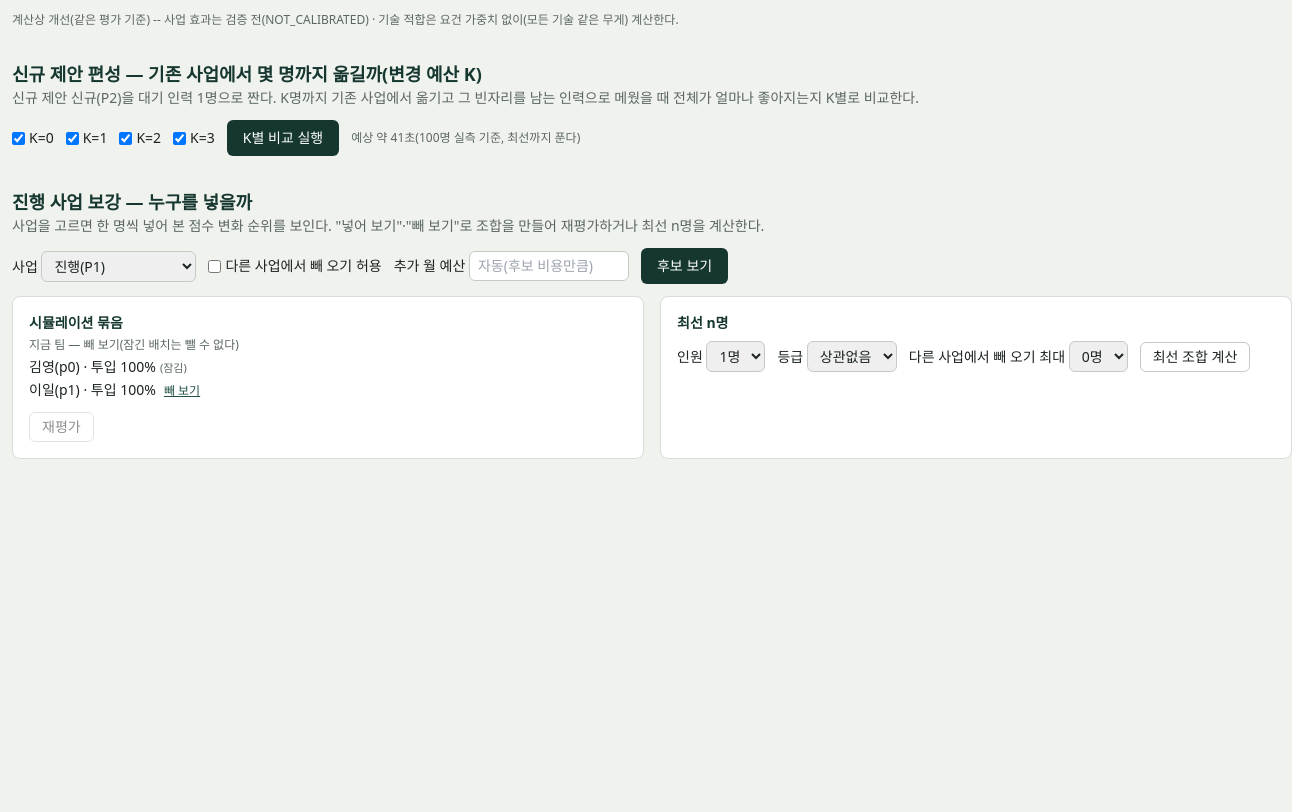
Test: OperatingTab › 보강: 후보를 넣어 보고 잠긴 사람은 뺄 수 없으며, 재평가에 등급 정원·예산을 함께 보낸다
Click the button "후보 보기" at (685, 266), box [641,248,728,284]
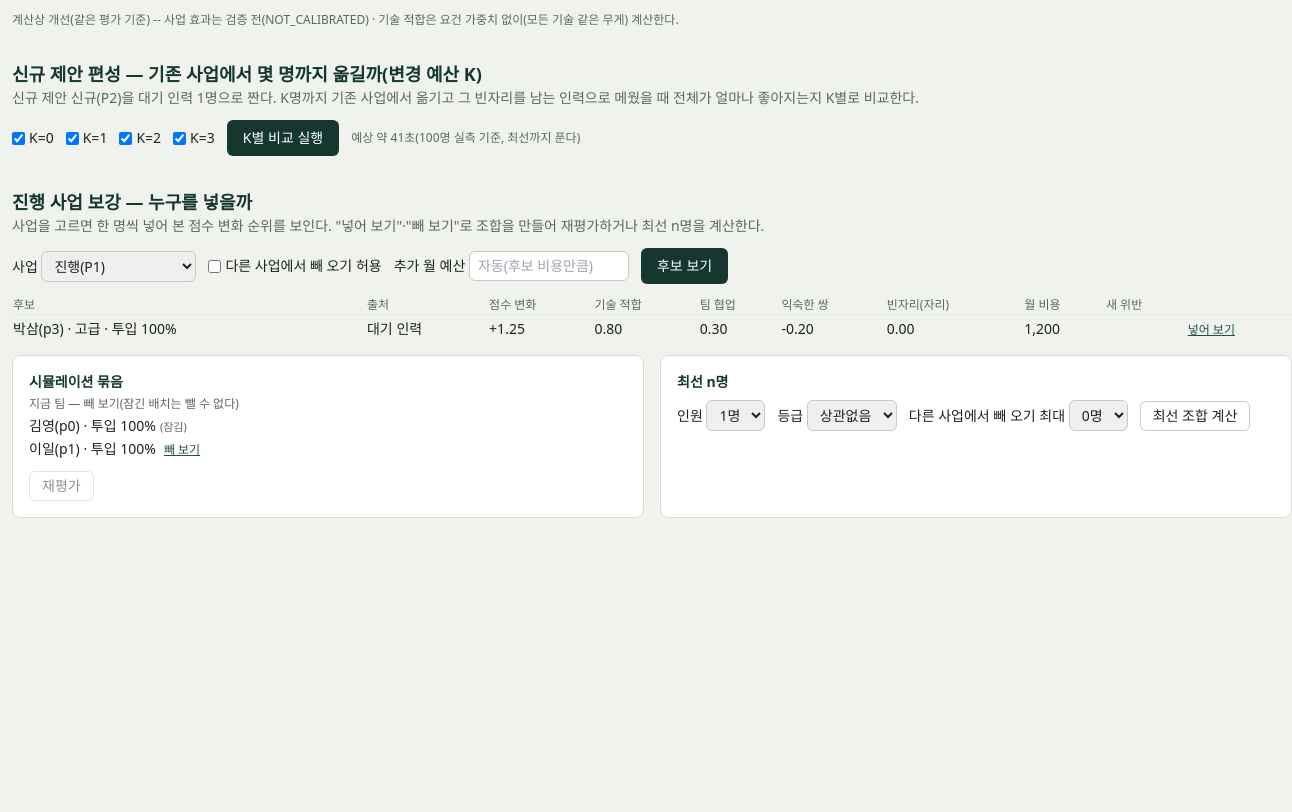
Expected: the list item "김영(p0) · 투입 100%(잠김)" is shown, [29,416,187,435]
Result: the text "+1.25" is shown at [488,314,593,343]
Click the button with aria-label "박삼(p3) 넣어 보기" at (1211, 330), box [1188,322,1235,338]
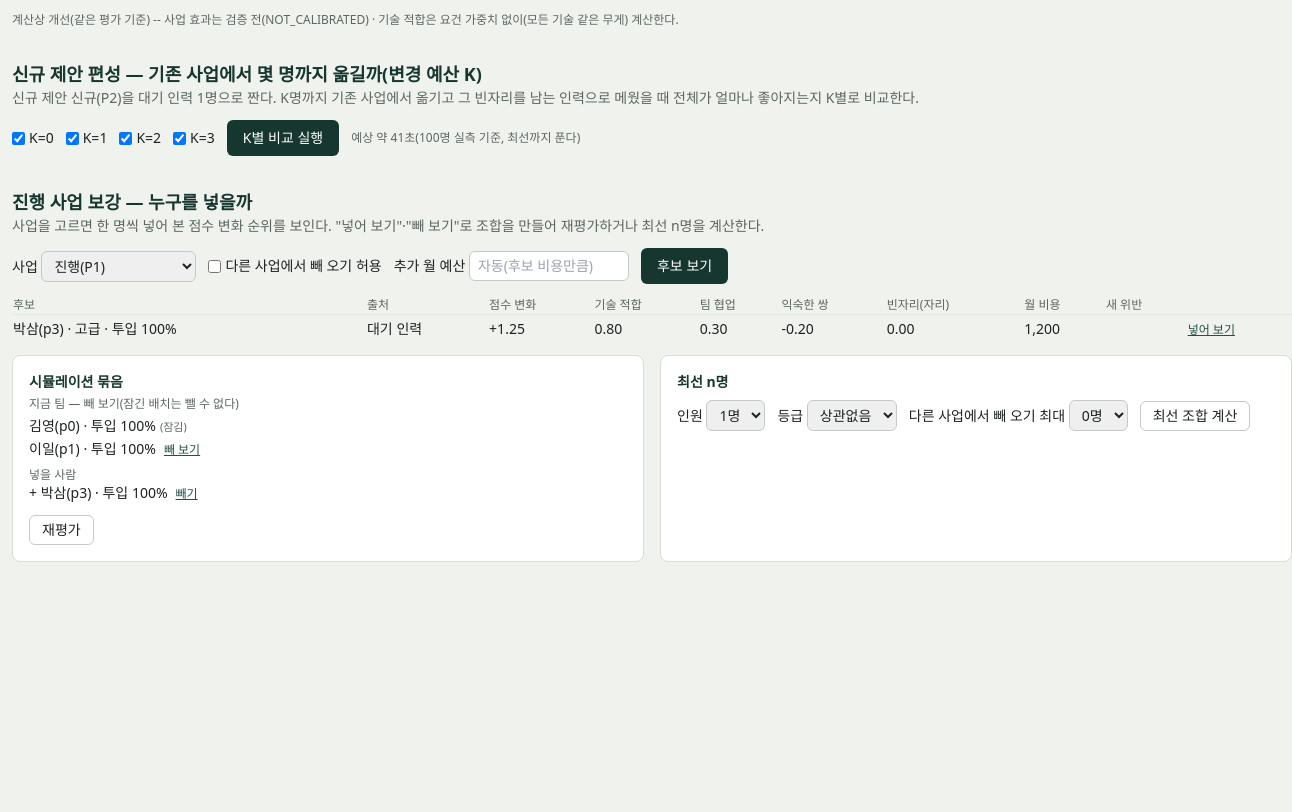
Click the button with aria-label "이일(p1) 빼 보기" at (182, 450), box [164,442,200,458]
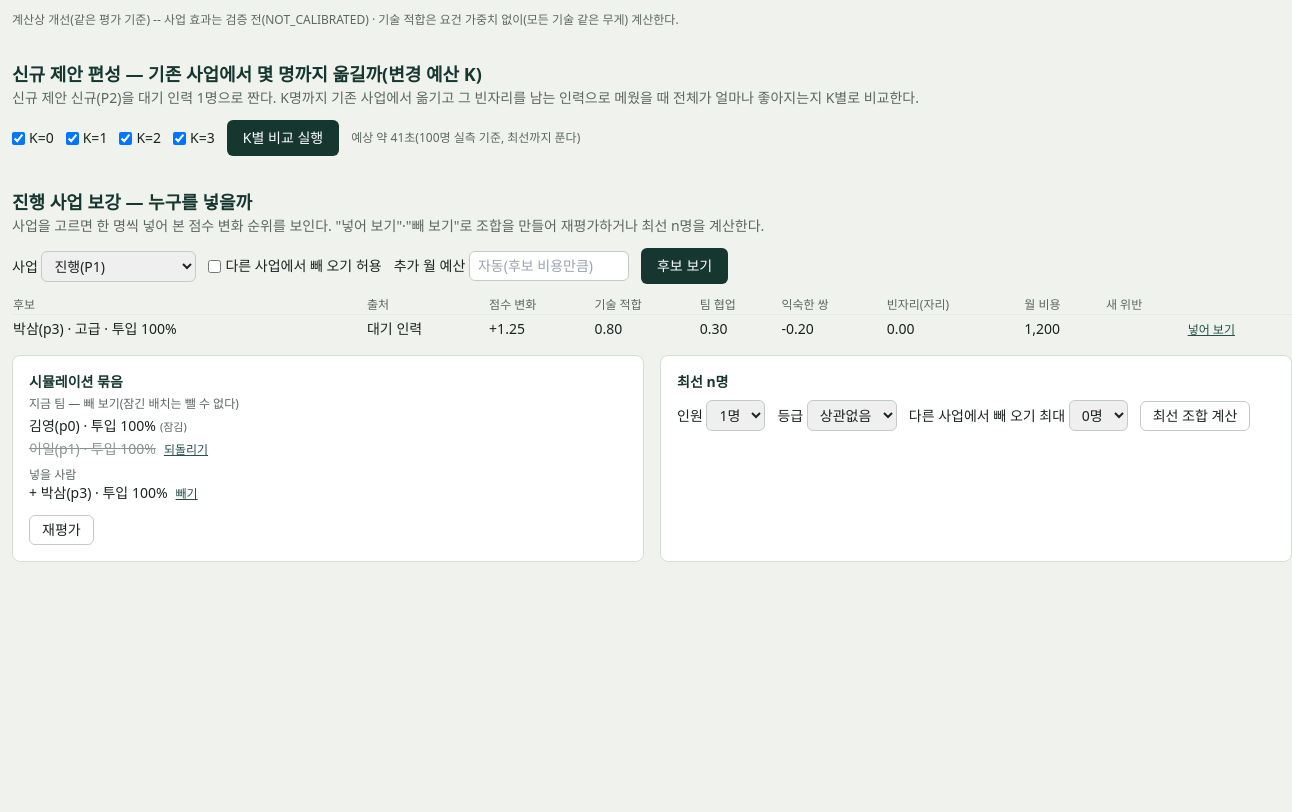
Click the button "재평가" at (61, 530), box [29,515,94,545]
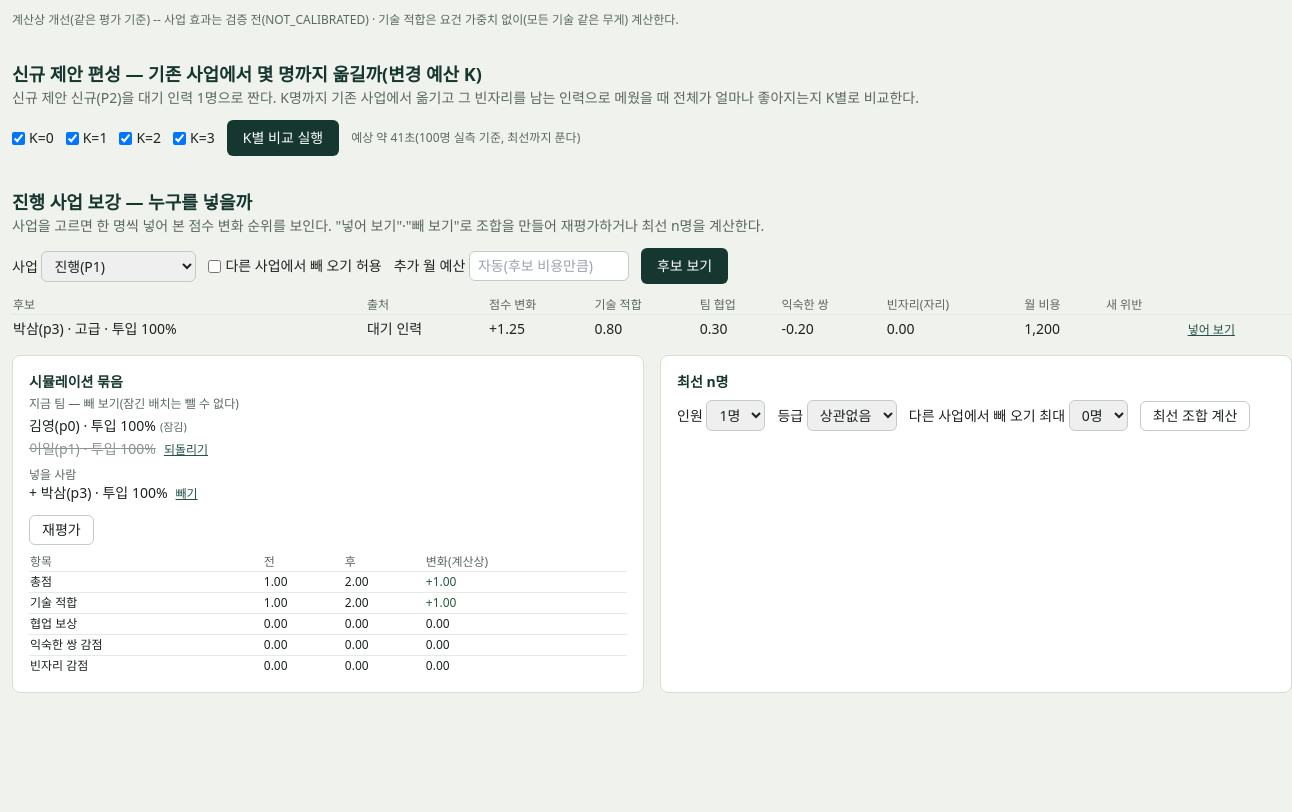
Result: the column heading "변화(계산상)" is shown at [425,553,627,572]
